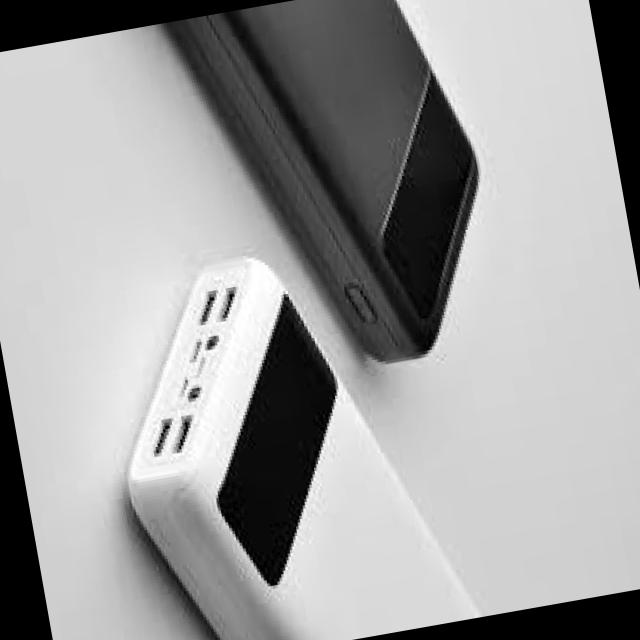power_bank: (88, 232, 485, 640), (162, 0, 511, 389)
